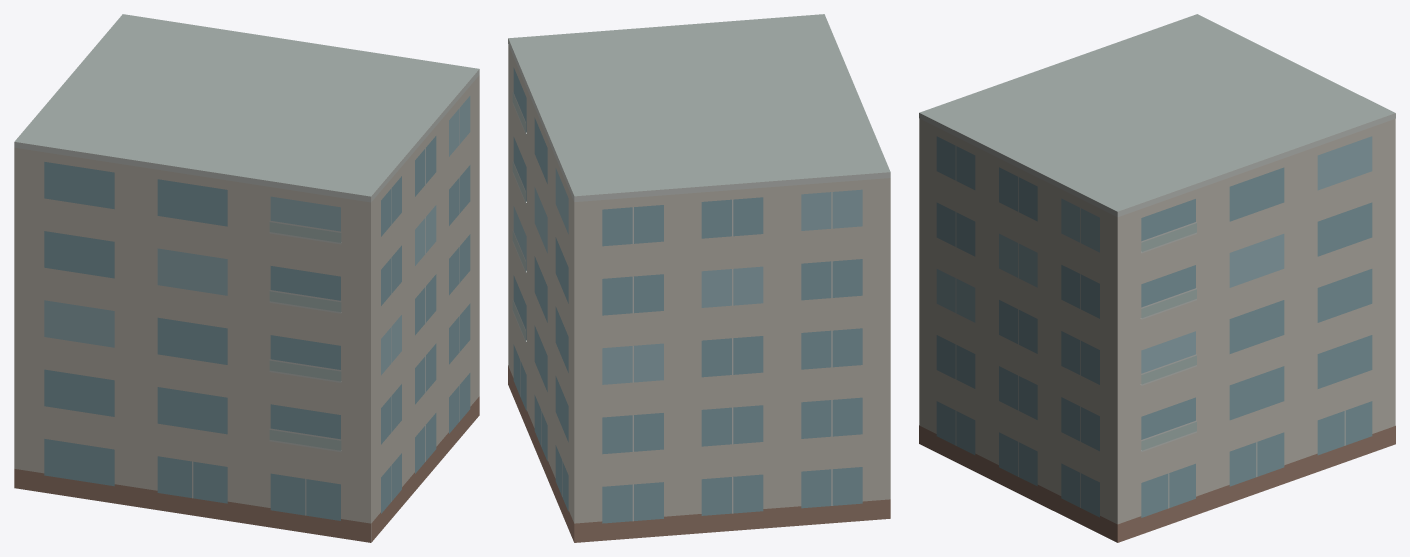
The model's file is survey-upis-33015262.glb.
3 renders of one model, left to right at view 1: azimuth 30°, elevation 25°; view 2: azimuth 150°, elevation 25°; view 3: azimuth 270°, elevation 25°, orthographic. The views are drawn at different scales.
Visible parts, largest first — view 1: survey-upis-33015262.tmp; view 2: survey-upis-33015262.tmp; view 3: survey-upis-33015262.tmp.
Boxes of the visible parts, bbox=[...] form: survey-upis-33015262.tmp: bbox=[14, 14, 479, 542]; survey-upis-33015262.tmp: bbox=[508, 14, 890, 542]; survey-upis-33015262.tmp: bbox=[919, 14, 1395, 542].
Bounding box in the file's own units: 18.58 × 14.5 × 18.92.
